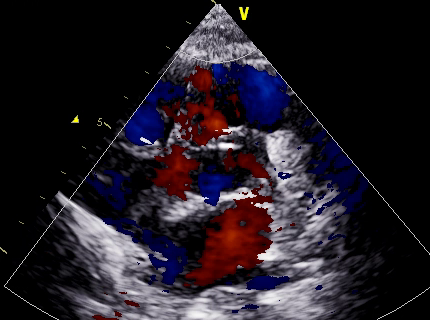TR: (122, 129, 168, 174)
